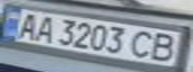0: (87, 21, 112, 52)
2: (69, 19, 93, 51)
3: (106, 24, 130, 56), (54, 17, 78, 47)
A: (9, 10, 42, 40), (30, 14, 60, 43)
B: (145, 30, 184, 63)
C: (127, 28, 160, 60)
